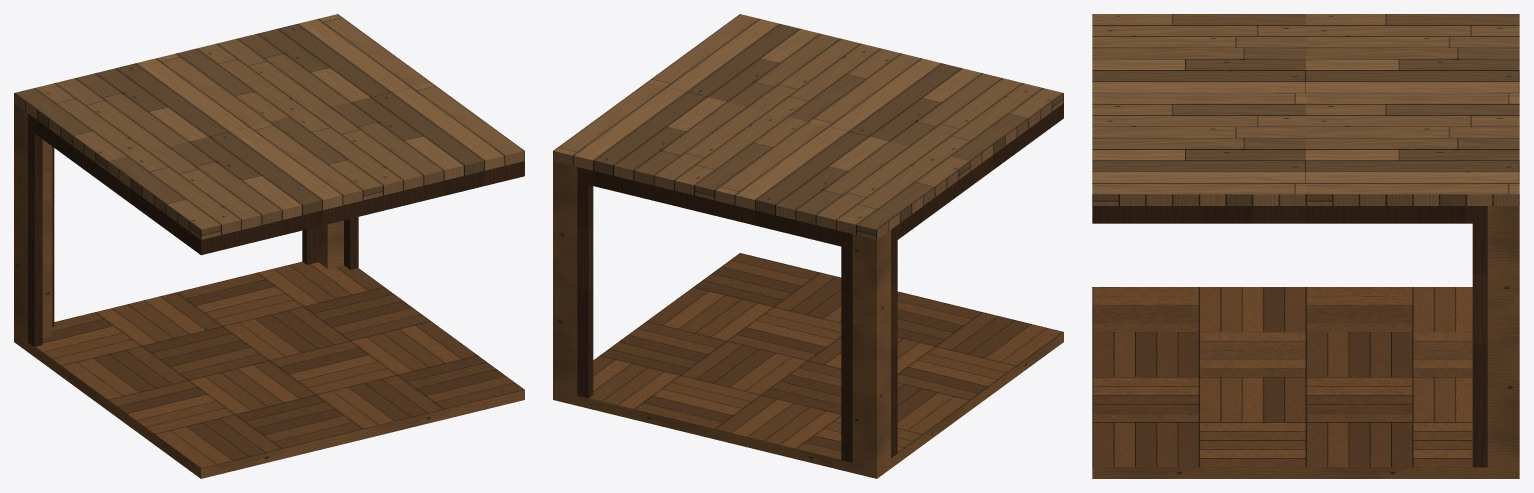
File: Room_Cabin_Opening_NoLight.glb
The picture shows the model from 3 angles, left to right: view 1: azimuth 30°, elevation 25°; view 2: azimuth 150°, elevation 25°; view 3: azimuth 270°, elevation 25°; orthographic projection. The views are drawn at different scales.
Parts seen in each view (by area): view 1: Room_Cabin_Opening_NoLight, Room_Cabin_Opening_NoLight_Ceiling; view 2: Room_Cabin_Opening_NoLight, Room_Cabin_Opening_NoLight_Ceiling; view 3: Room_Cabin_Opening_NoLight_Ceiling, Room_Cabin_Opening_NoLight.
Part boxes in pixels (left/top/right/bottom): Room_Cabin_Opening_NoLight: left=14, top=103, right=524, bottom=478; Room_Cabin_Opening_NoLight_Ceiling: left=14, top=14, right=524, bottom=255; Room_Cabin_Opening_NoLight: left=553, top=161, right=1063, bottom=478; Room_Cabin_Opening_NoLight_Ceiling: left=553, top=14, right=1063, bottom=248; Room_Cabin_Opening_NoLight_Ceiling: left=1092, top=14, right=1519, bottom=223; Room_Cabin_Opening_NoLight: left=1092, top=206, right=1519, bottom=478.
Size of the model in its own units: 4 by 2.94 by 4.
5 materials, 5 textured.
